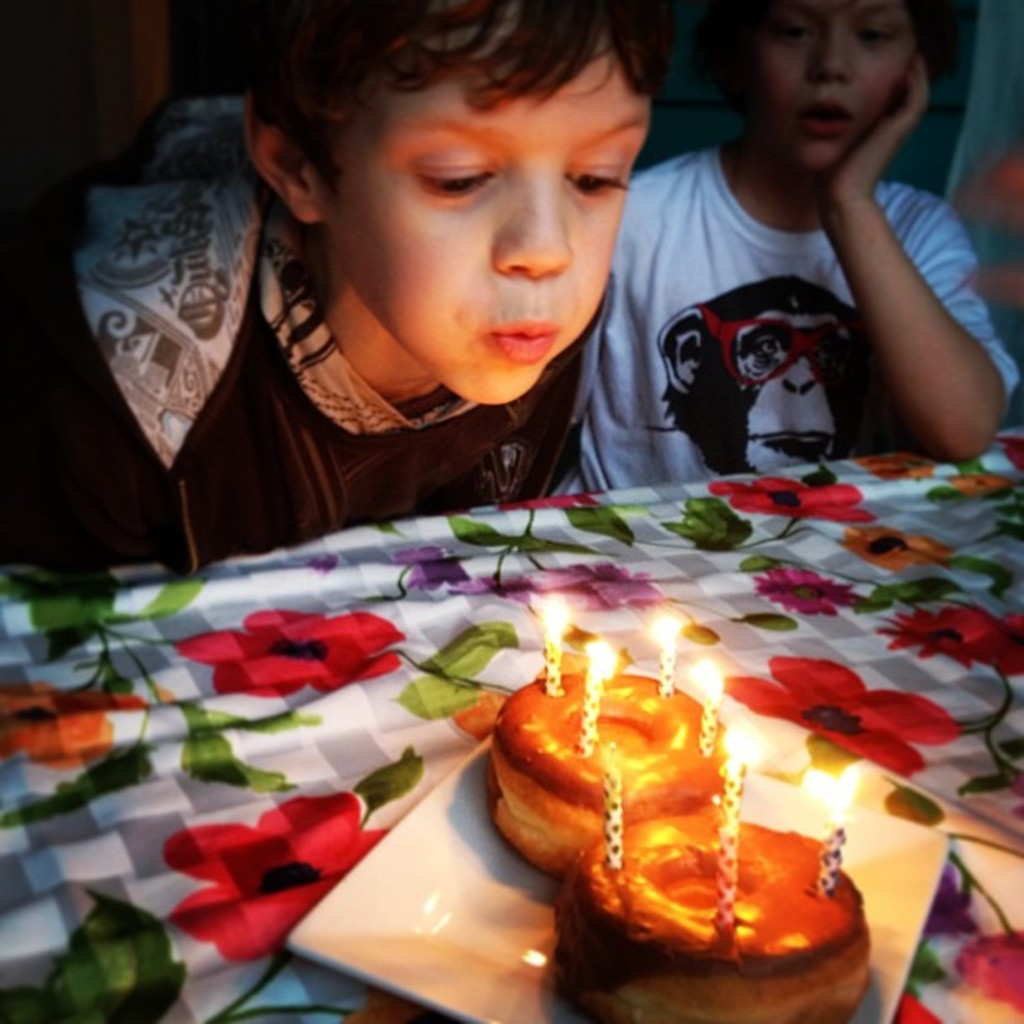cake: (550, 808, 868, 1022), (485, 671, 731, 885)
